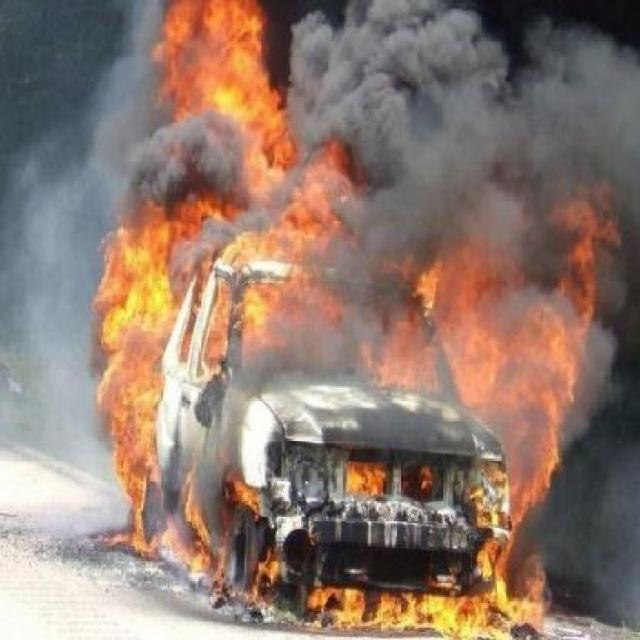Fire: (115, 193, 584, 640)
